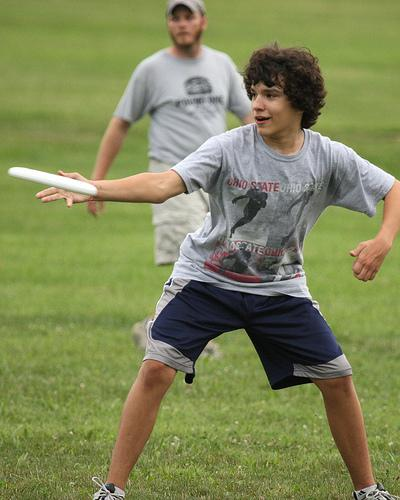person: (36, 45, 400, 498)
